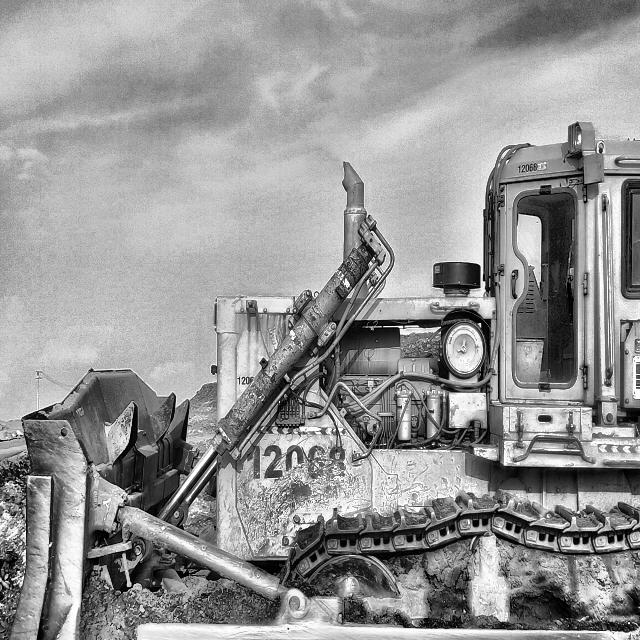buldozerpayloadergrader: (8, 123, 640, 640)
